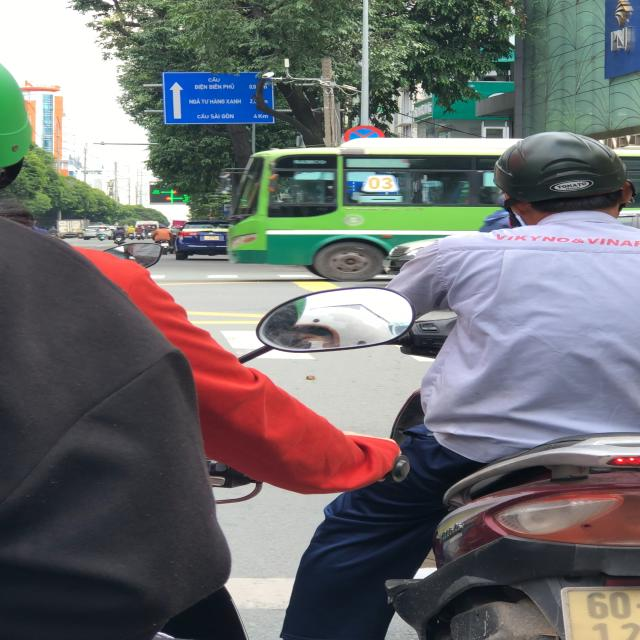Bien bao cam dung xe va do xe: (339, 123, 385, 143)
